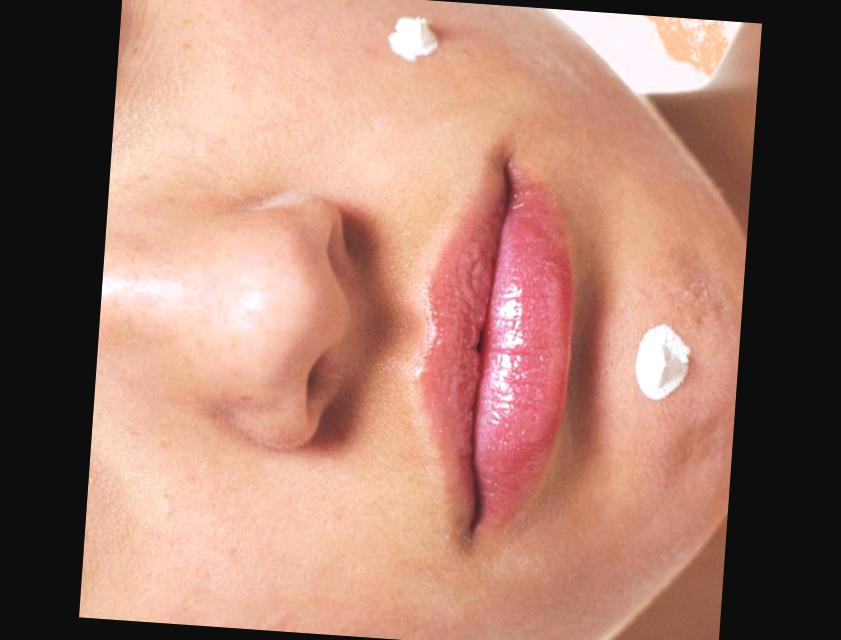Acne: (628, 314, 700, 404), (380, 12, 446, 64)
